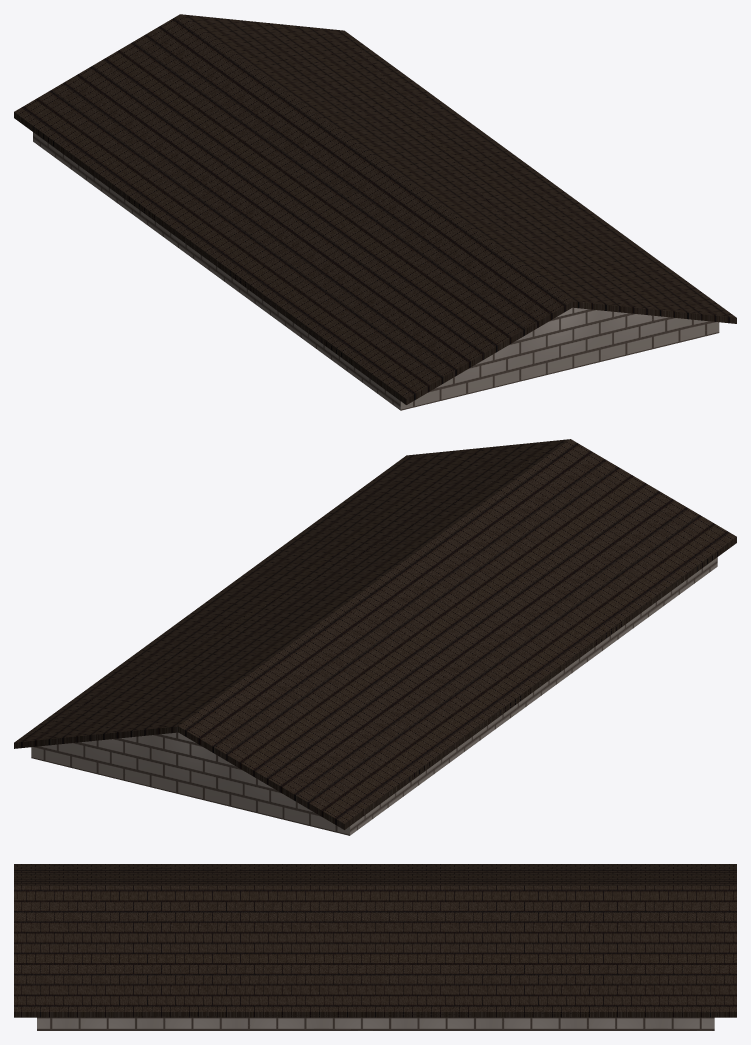
File: HoussePartTop.obj
3 views of the same model, one above another, from view 1: azimuth 30°, elevation 25°; view 2: azimuth 150°, elevation 25°; view 3: azimuth 270°, elevation 25° (orthographic). The views are drawn at different scales.
Parts seen in each view (by area): view 1: Plane.047_Plane.074; view 2: Plane.047_Plane.074; view 3: Plane.047_Plane.074.
Boxes of the visible parts, <box> form: Plane.047_Plane.074: <box>14,14,736,410</box>; Plane.047_Plane.074: <box>14,439,736,835</box>; Plane.047_Plane.074: <box>14,864,736,1030</box>.
Size of the model in its own units: 2.08 by 0.4772 by 4.27.
